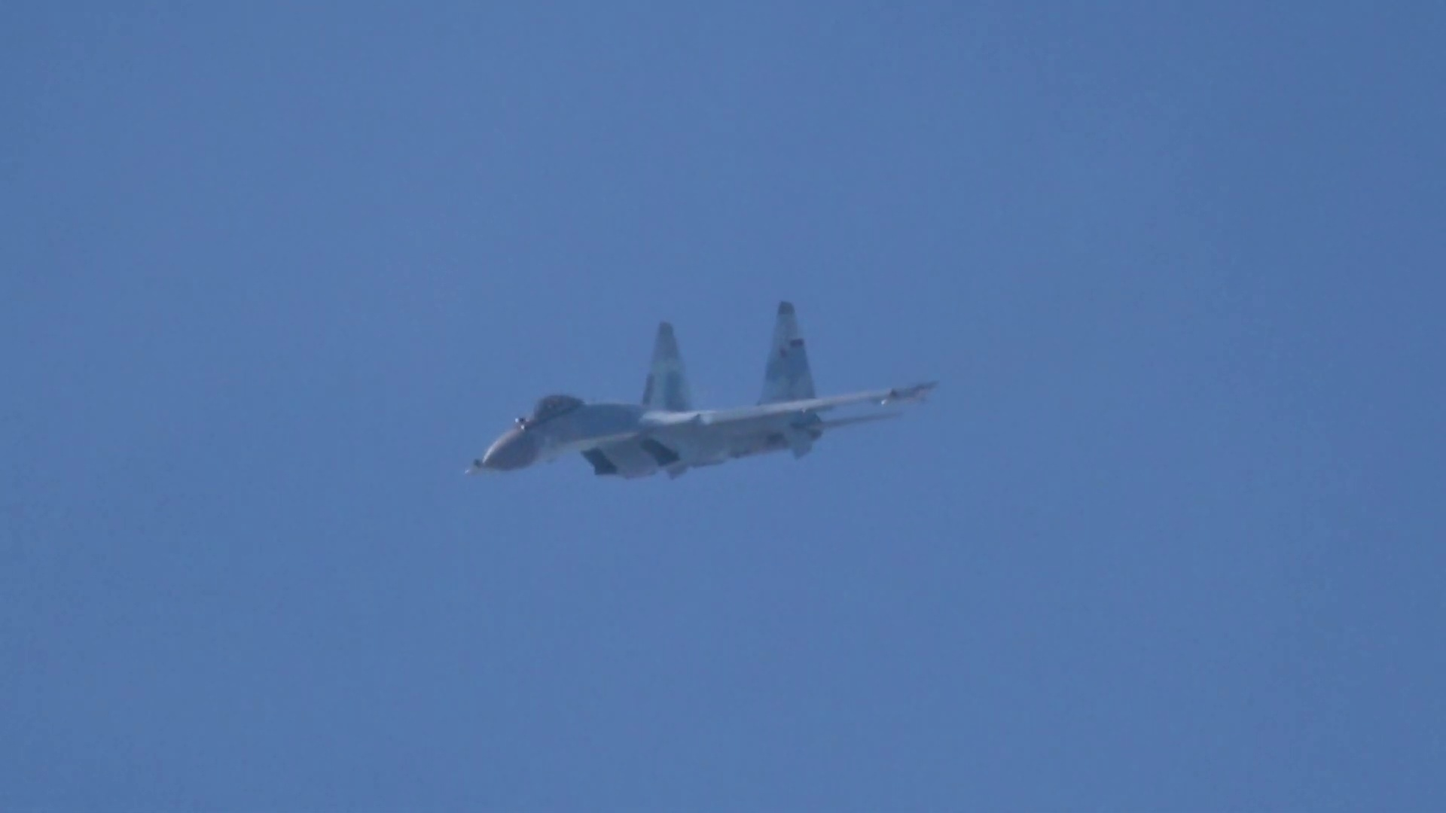Su35: (465, 300, 939, 481)
